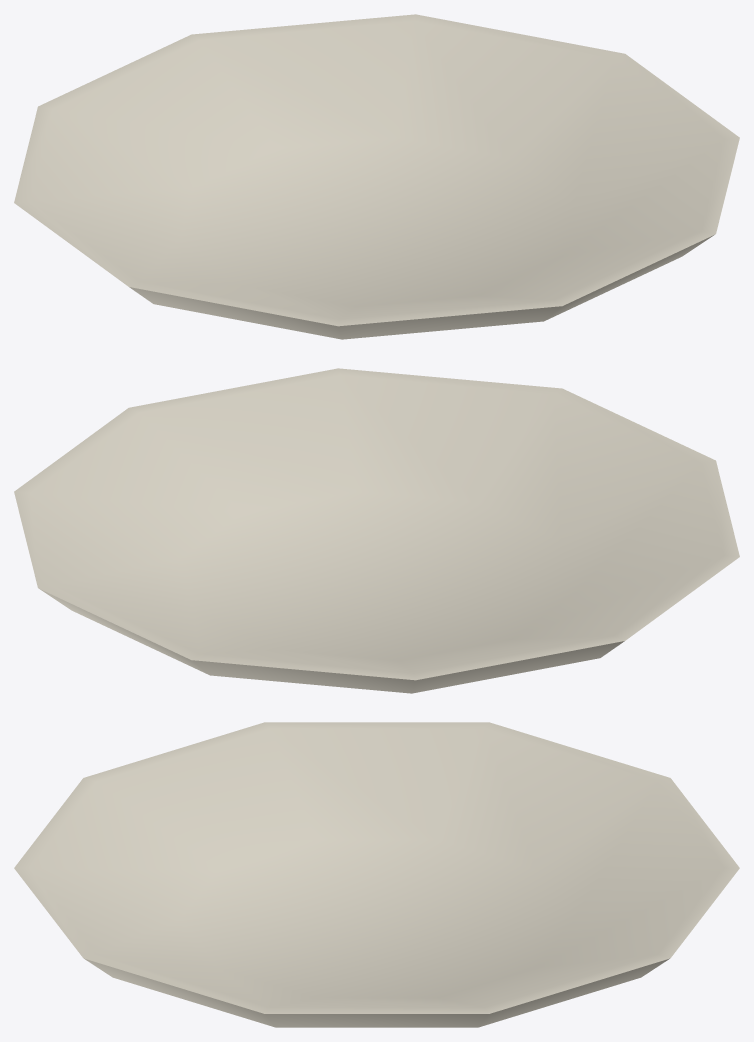
The model's file is talerz.fbx.
3 renders of one model, top to bottom at view 1: azimuth 30°, elevation 25°; view 2: azimuth 150°, elevation 25°; view 3: azimuth 270°, elevation 25°, orthographic. The views are drawn at different scales.
Parts seen in each view (by area): view 1: talerz_L; view 2: talerz_L; view 3: talerz_L.
Part boxes in pixels (box(x1,y1,x2,y2)): talerz_L: box(14, 14, 739, 339); talerz_L: box(14, 368, 739, 693); talerz_L: box(14, 722, 739, 1027).
Size of the model in its own units: 262 by 249 by 27.3.
